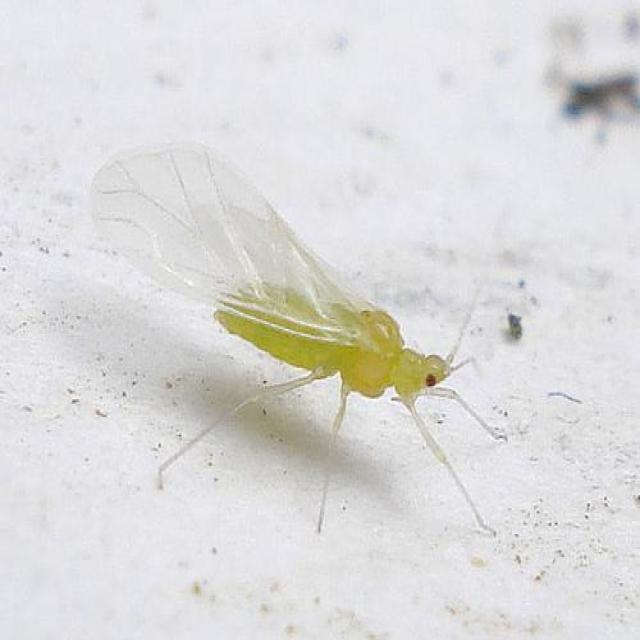Aphids: (74, 127, 526, 557)
